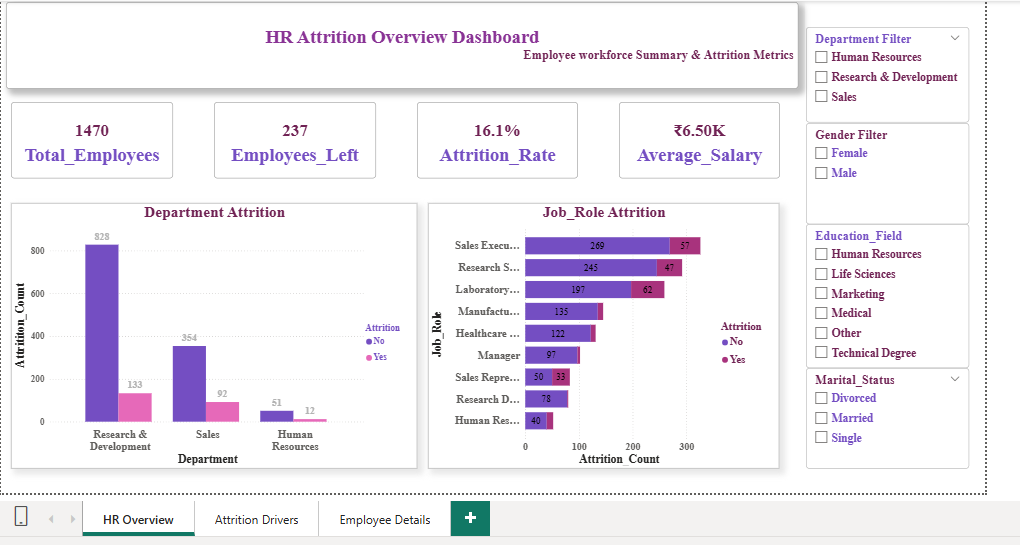

What the dashboard file says about the page in this screenshot:
{"tool":"powerbi","page":{"name":"HR Overview","canvas":[1700,850],"ordinal":0},"visuals":[{"type":"card","fields":{"Values":["HR_Employee_Attrition.Total_Employees"]},"box":[16.5,173.7,279.7,131.6],"z":0},{"type":"card","fields":{"Values":["HR.Employees Left"]},"box":[367.4,173.7,279.7,131.6],"z":1000},{"type":"card","fields":{"Values":["HR.Attrition_Rate"]},"box":[718.4,173.7,277.8,131.6],"z":2000},{"type":"card","fields":{"Values":["HR.Average Salary"]},"box":[1067.5,173.7,277.8,131.6],"z":3000},{"type":"clusteredColumnChart","title":"Department Attrition","fields":{"Category":["HR.Department"],"Series":["HR.Attrition"],"Y":["CountNonNull(HR.Attrition)"]},"box":[16.5,349.1,701.9,458.8],"z":4000},{"type":"barChart","title":"Job_Role Attrition","fields":{"Category":["HR.JobRole"],"Y":["CountNonNull(HR.Attrition)"],"Series":["HR.Attrition"]},"box":[738.5,349.1,606.9,458.8],"z":5000},{"type":"slicer","fields":{"Values":["HR.Department"]},"box":[1391.1,45.7,281.5,164.5],"z":10000},{"type":"slicer","fields":{"Values":["HR.Gender"]},"box":[1391.1,210.2,281.5,175.5],"z":11000},{"type":"slicer","fields":{"Values":["HR.EducationField"]},"box":[1391.1,385.7,281.5,248.6],"z":12000},{"type":"slicer","fields":{"Values":["HR.MaritalStatus"]},"box":[1391.1,634.3,281.5,173.7],"z":13000},{"type":"textbox","box":[9.1,1.8,1369.1,149.9],"z":14000}]}

Visuals, with their boxes on the page's 1700x850 design canvas (x1, y1, x2, y2). These are canvas units, not pixel positions in the 1020x545 screenshot, which may show the page scaled, cropped or inside an application window:
card - HR_Employee_Attrition.Total_Employees: left=16, top=174, right=296, bottom=305
card - HR.Employees Left: left=367, top=174, right=647, bottom=305
card - HR.Attrition_Rate: left=718, top=174, right=996, bottom=305
card - HR.Average Salary: left=1068, top=174, right=1345, bottom=305
"Department Attrition" clusteredColumnChart: left=16, top=349, right=718, bottom=808
"Job_Role Attrition" barChart: left=738, top=349, right=1345, bottom=808
slicer - HR.Department: left=1391, top=46, right=1673, bottom=210
slicer - HR.Gender: left=1391, top=210, right=1673, bottom=386
slicer - HR.EducationField: left=1391, top=386, right=1673, bottom=634
slicer - HR.MaritalStatus: left=1391, top=634, right=1673, bottom=808
textbox: left=9, top=2, right=1378, bottom=152
